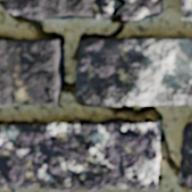brick: (0, 118, 159, 191), (78, 36, 191, 104), (0, 36, 61, 107), (181, 123, 191, 184), (180, 0, 191, 19)
broken_brick: (4, 0, 113, 20), (123, 0, 163, 20)
crack: (0, 0, 191, 189), (75, 0, 127, 60)
